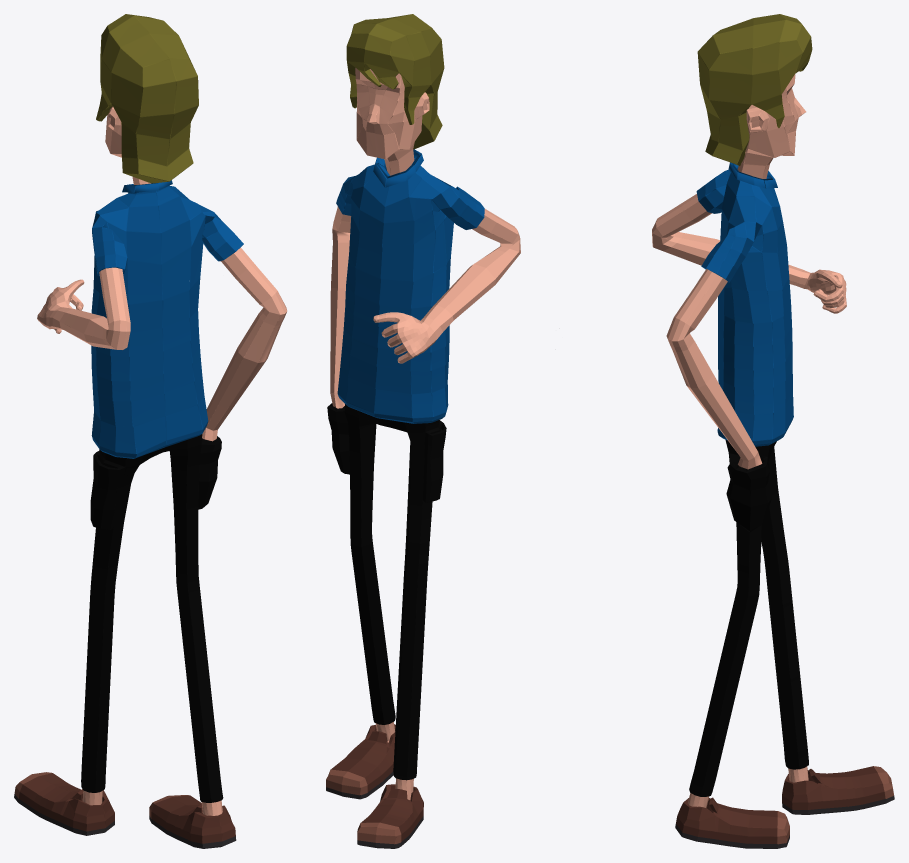
File: Business Man.fbx
3 views of the same model, side by side, from view 1: azimuth 30°, elevation 25°; view 2: azimuth 150°, elevation 25°; view 3: azimuth 270°, elevation 25° (orthographic). The views are drawn at different scales.
Visible parts, largest first — view 1: Renzo; view 2: Renzo; view 3: Renzo.
Boxes of the visible parts, x1,y1,x2,y2 form: Renzo: (14,14,287,848); Renzo: (326,14,520,848); Renzo: (559,14,894,848).
Bounding box in the file's own units: 40.94 × 171 × 66.47.
